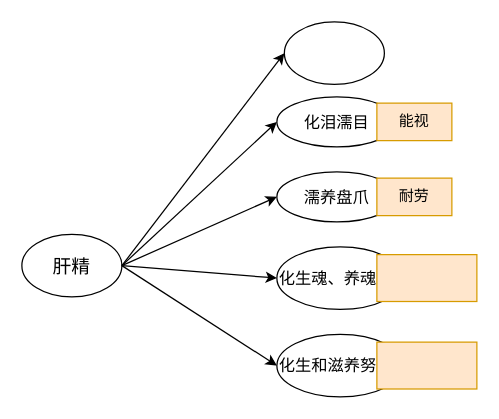
Some shapes in this 499 by 419 pixel diagram are drawn without their labels. The shapes that lost their labels are listed below. From the top down, each one's centre as x and y in pixels, then its label:
pixel 333 52: 化生胆汁
pixel 426 277: 舍于肝
pixel 426 365: 敛而不化
